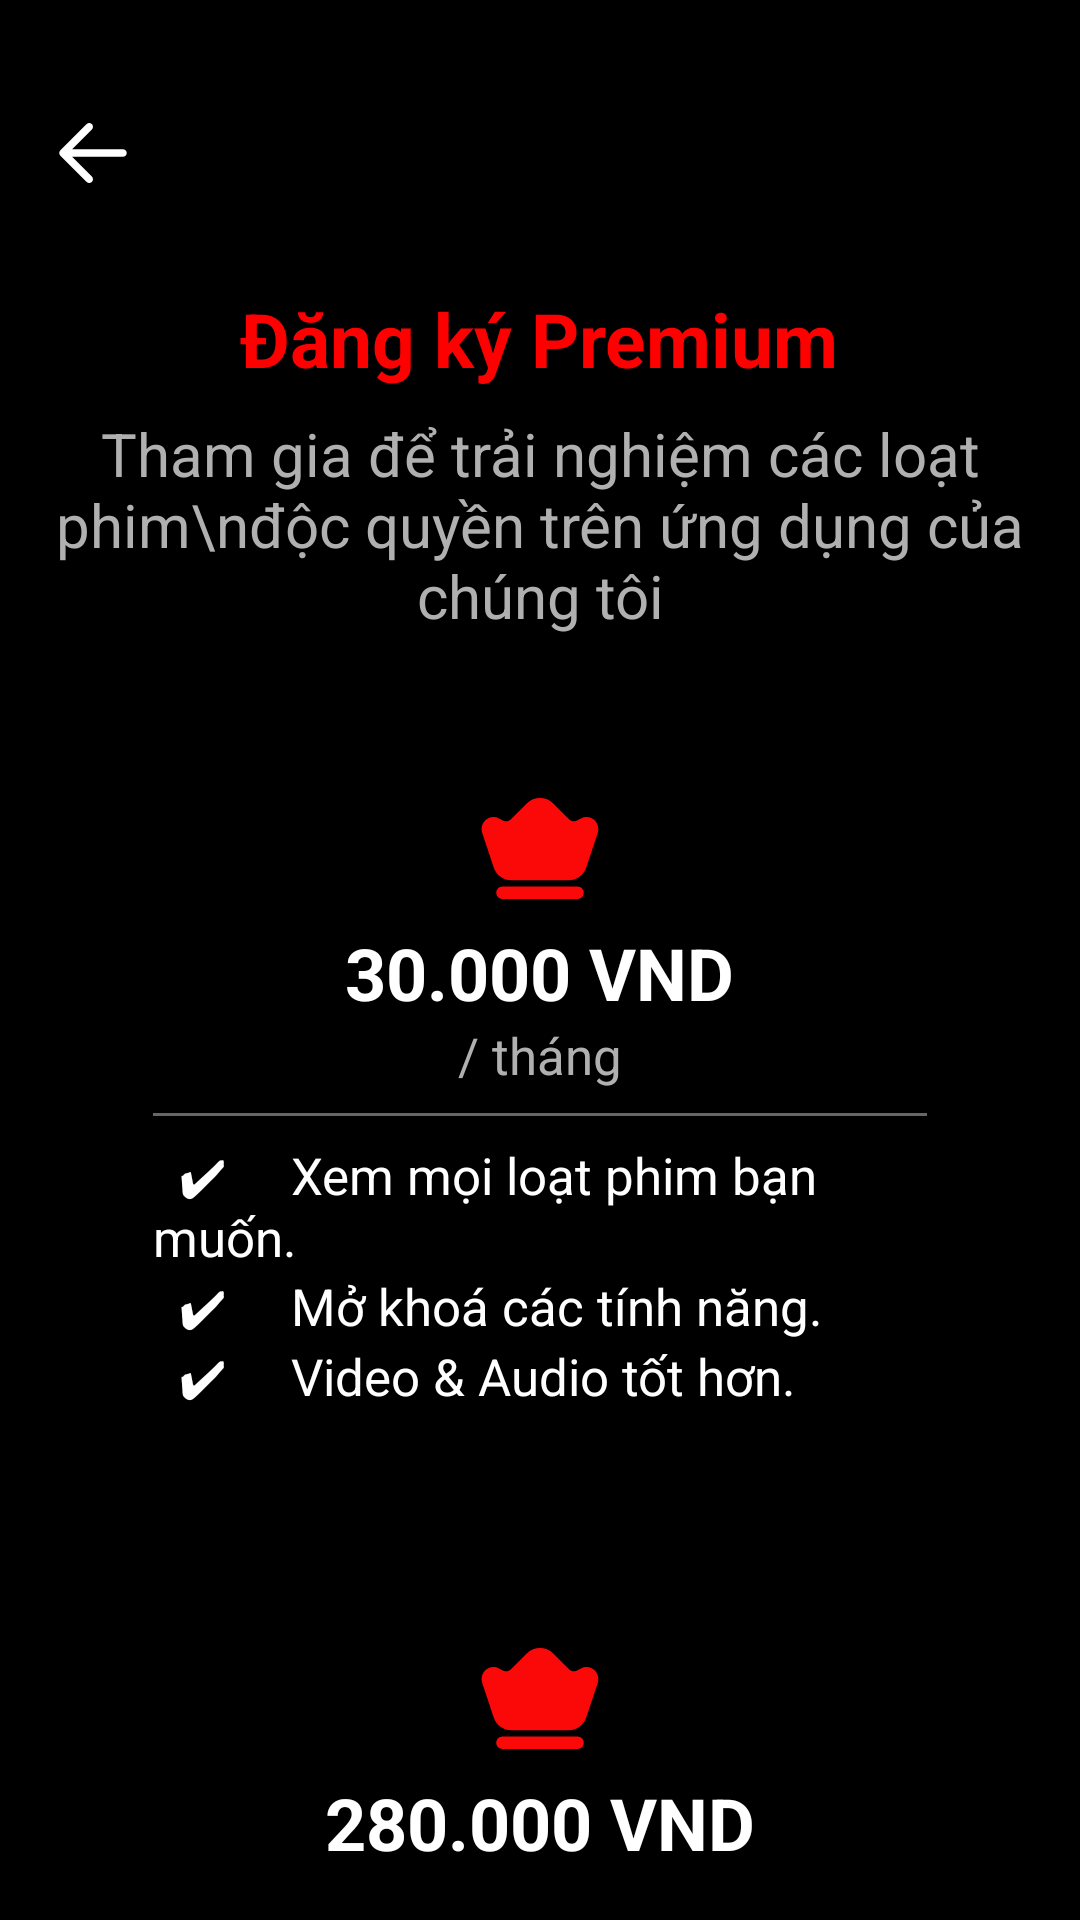

Named icons in this screenshot (1080px×1920px) and their centers, (x,y):
crown: (540,848), (540,1698)
left arrow: (93,153)
